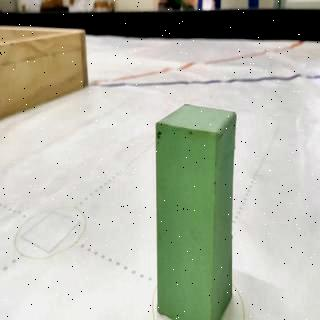greenbox: (155, 101, 239, 320)
